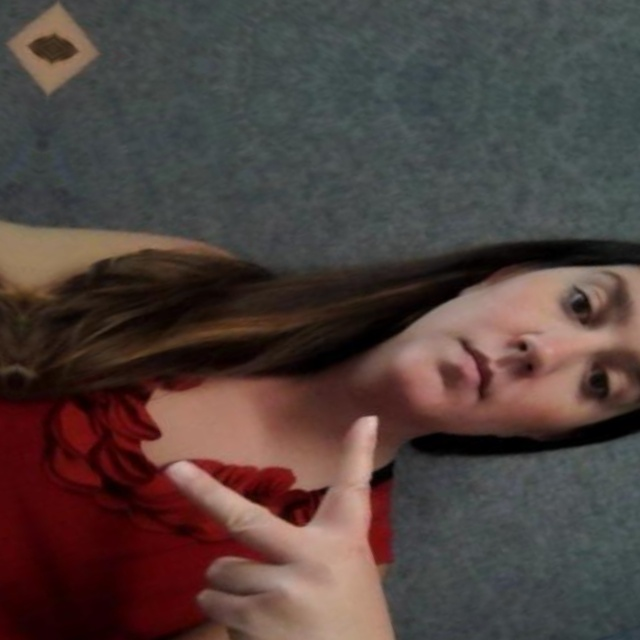Scissors: (0, 315, 565, 640)
